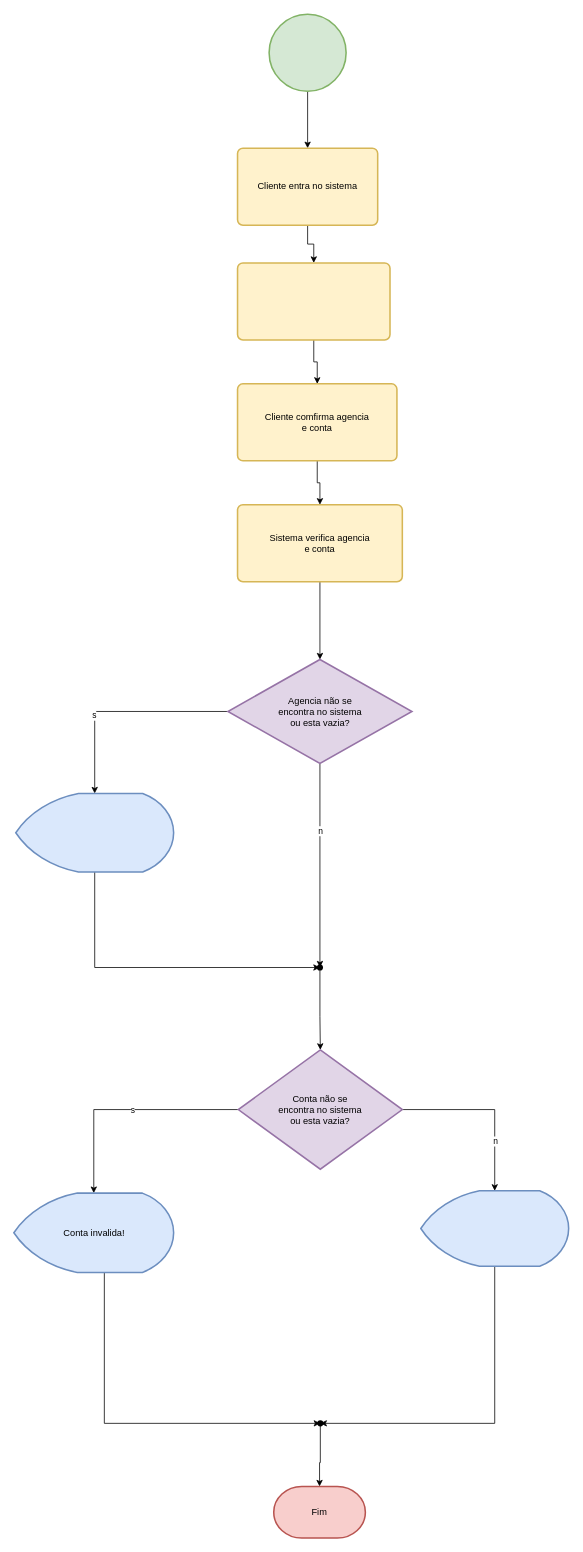
The diagram is 583 pixels wide and 1552 high, and some of its shapes have lost their labels. Each missing label, with the centre of its shape:
Agencia invalida!: pixel 94 832
Cliente escolhe opção depositar: pixel 313 301
Deposito relizado com sucesso: pixel 494 1228
Inicício: pixel 307 52
